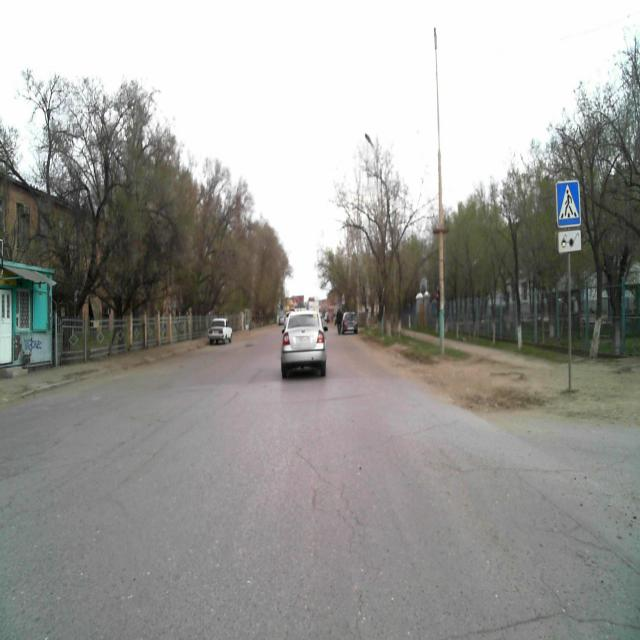road sign: (556, 179, 580, 227), (557, 229, 581, 252)
